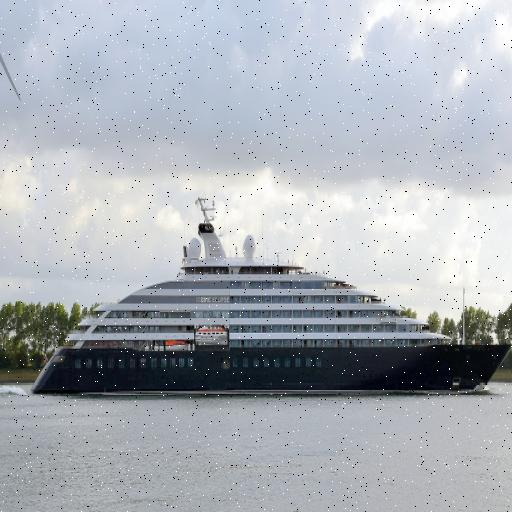cruises: (26, 194, 512, 403)
